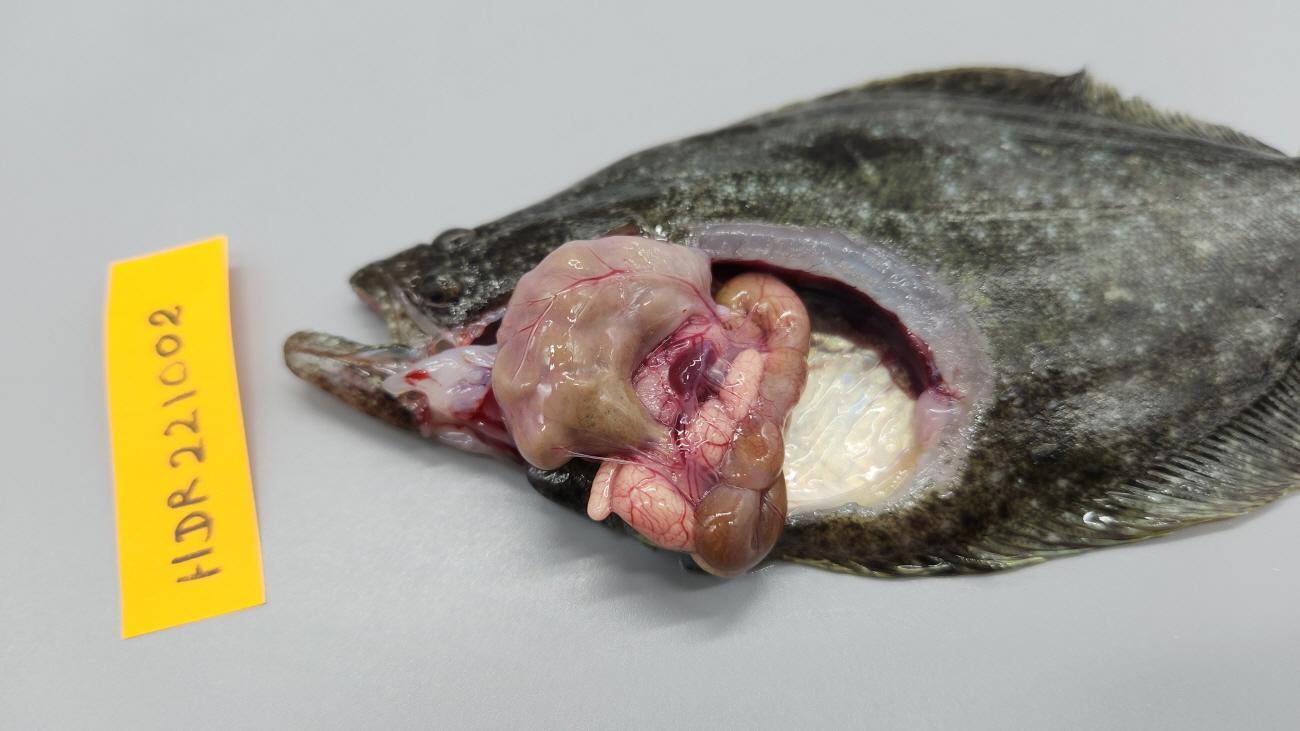POINN: (633, 314, 728, 429)
POSPN: (668, 340, 716, 404)
